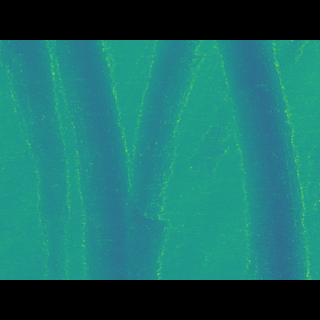Loch: (0, 70, 128, 251), (216, 69, 314, 249), (126, 70, 207, 249)
